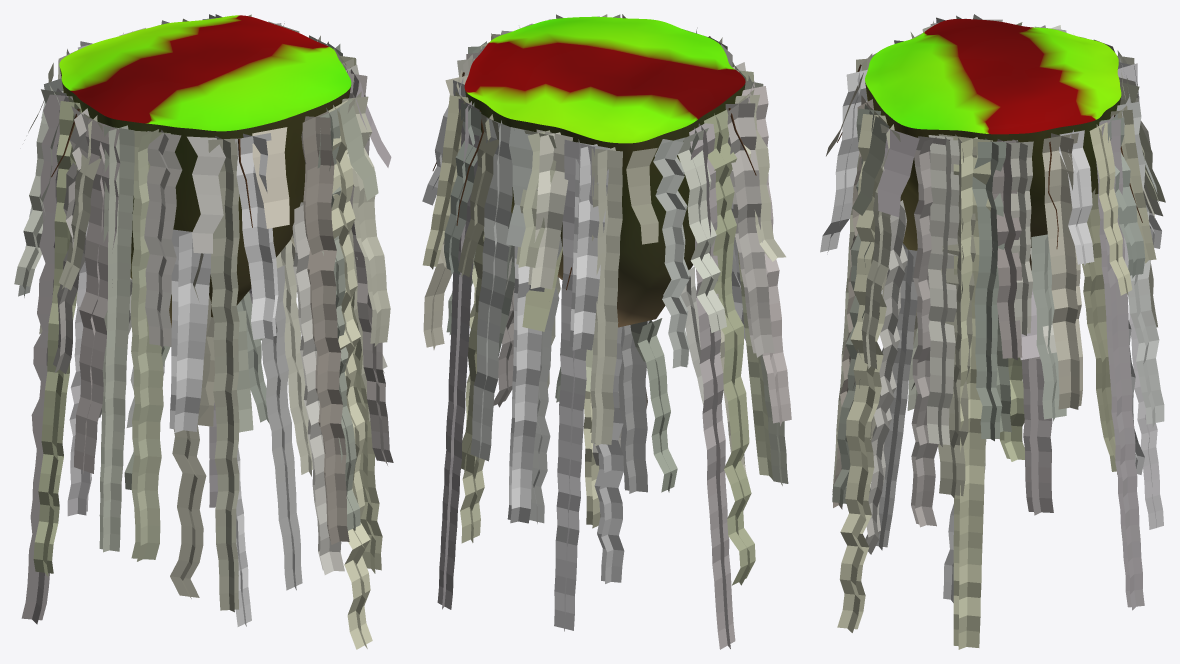
Rendered from SM_H04_Floater03.fbx.
The picture shows the model from 3 angles, left to right: view 1: azimuth 30°, elevation 25°; view 2: azimuth 150°, elevation 25°; view 3: azimuth 270°, elevation 25°; orthographic projection. The views are drawn at different scales.
Parts seen in each view (by area): view 1: SM_H04_Floater03_Ivy, SM_H04_Floater03; view 2: SM_H04_Floater03_Ivy, SM_H04_Floater03; view 3: SM_H04_Floater03_Ivy, SM_H04_Floater03.
Boxes of the visible parts, <box> form: SM_H04_Floater03_Ivy: <box>14,14,393,649</box>; SM_H04_Floater03: <box>59,15,351,327</box>; SM_H04_Floater03_Ivy: <box>422,14,791,649</box>; SM_H04_Floater03: <box>464,16,745,327</box>; SM_H04_Floater03_Ivy: <box>820,14,1165,649</box>; SM_H04_Floater03: <box>865,19,1121,270</box>.
Bounding box in the file's own units: 18.89 × 30.44 × 18.14.
